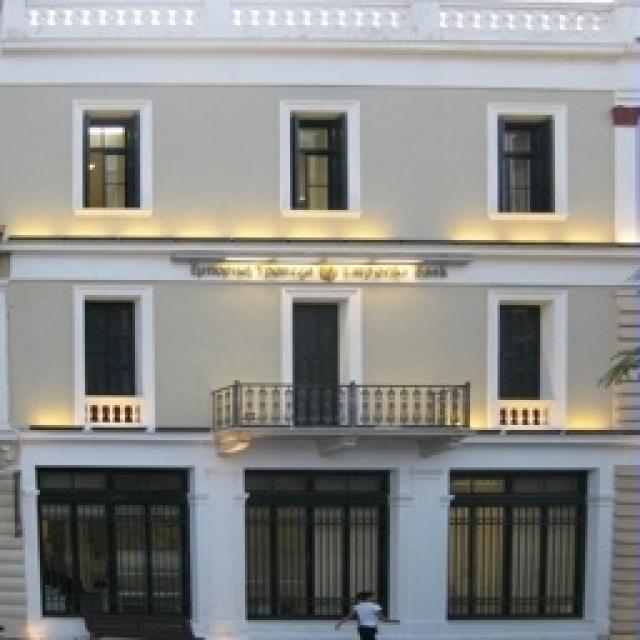Window: (42, 467, 188, 615), (450, 470, 582, 615), (245, 472, 383, 590), (84, 107, 138, 205), (85, 298, 135, 398), (292, 115, 346, 207), (500, 118, 552, 212), (500, 302, 540, 398), (292, 302, 338, 380)
